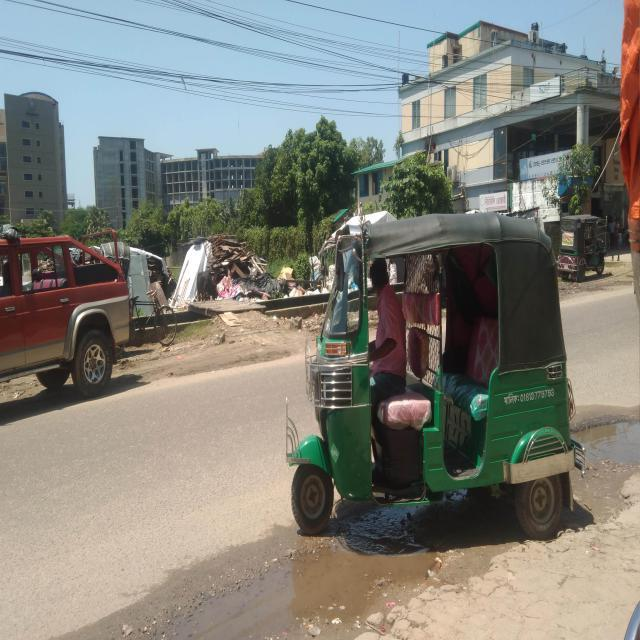CNG: (292, 205, 589, 562)
